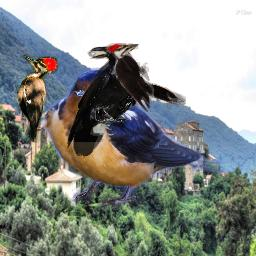Crow: (67, 45, 140, 158)
Swallow: (39, 67, 225, 210)
Woodpecker: (105, 43, 186, 113), (13, 55, 58, 143)
